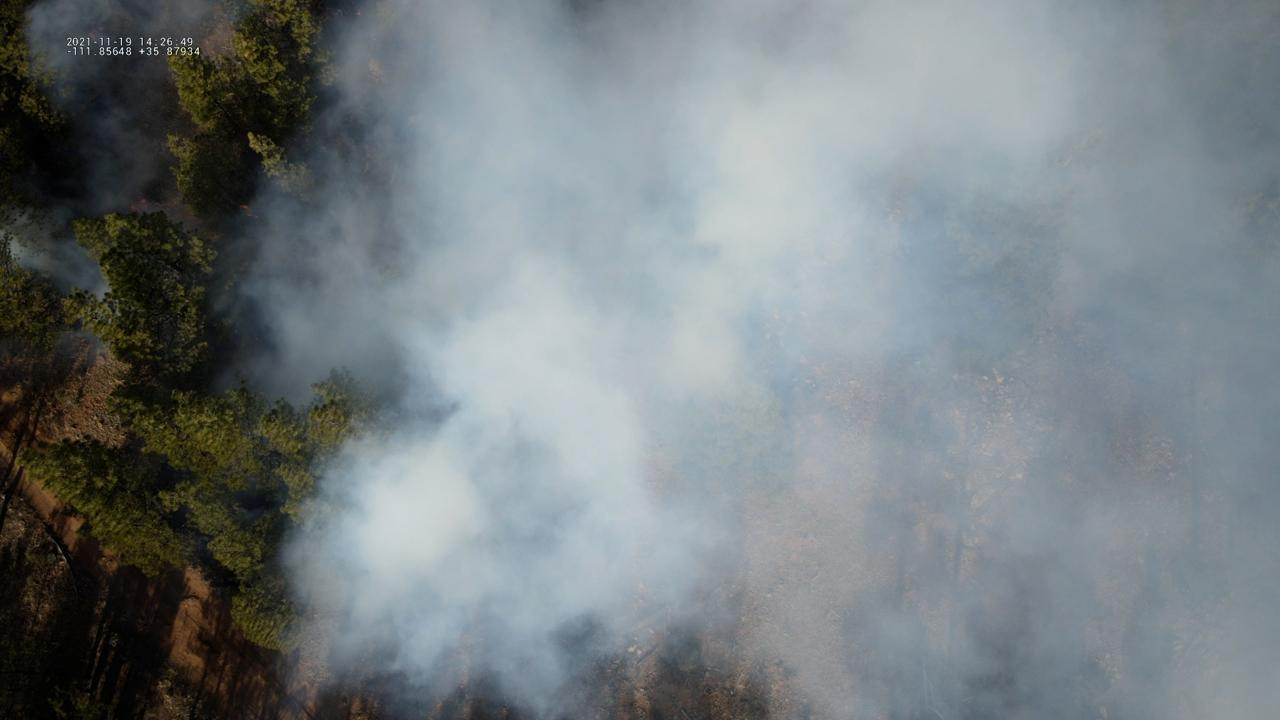fire: (237, 201, 260, 219), (127, 196, 147, 212)
smoke: (0, 0, 1280, 720)
